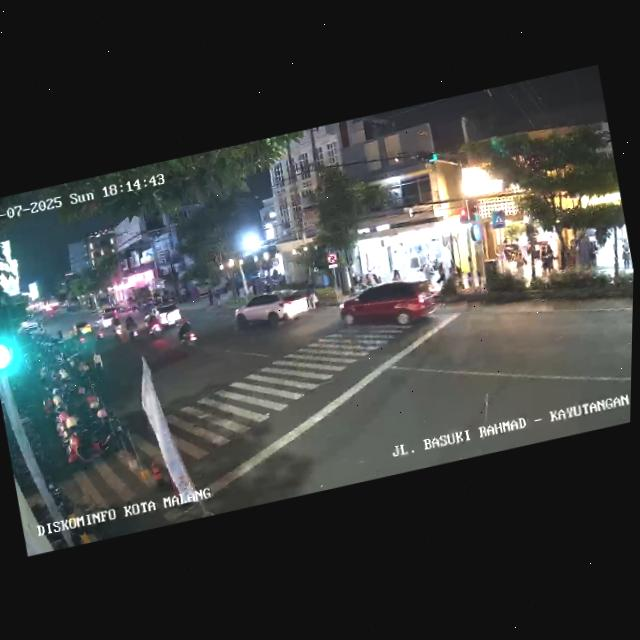car: (337, 270, 444, 344), (230, 281, 322, 338), (142, 301, 185, 332)
motorcycle: (173, 313, 201, 354), (143, 306, 168, 341), (118, 313, 141, 345), (110, 316, 126, 340)
person: (537, 241, 558, 279), (89, 350, 107, 385), (617, 237, 634, 271), (513, 248, 529, 284), (434, 257, 449, 288), (422, 260, 436, 287), (389, 258, 402, 281)
